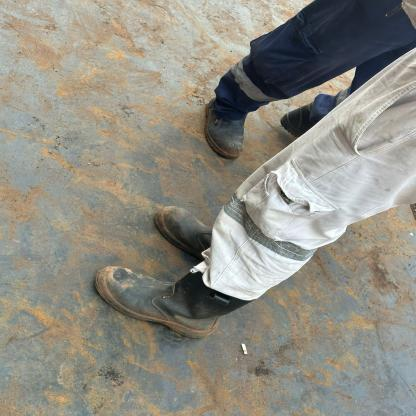bota: (92, 254, 254, 340), (146, 202, 222, 256), (204, 90, 254, 158)
